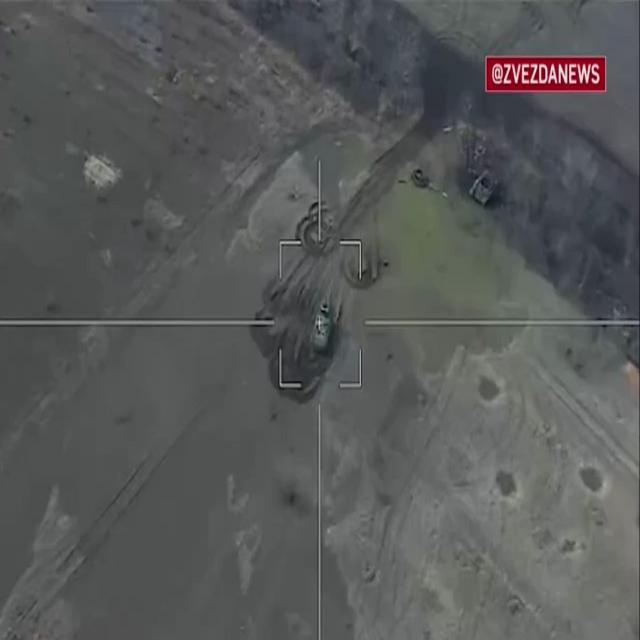apc: (313, 288, 336, 355)
destroyed: (468, 171, 502, 209)
